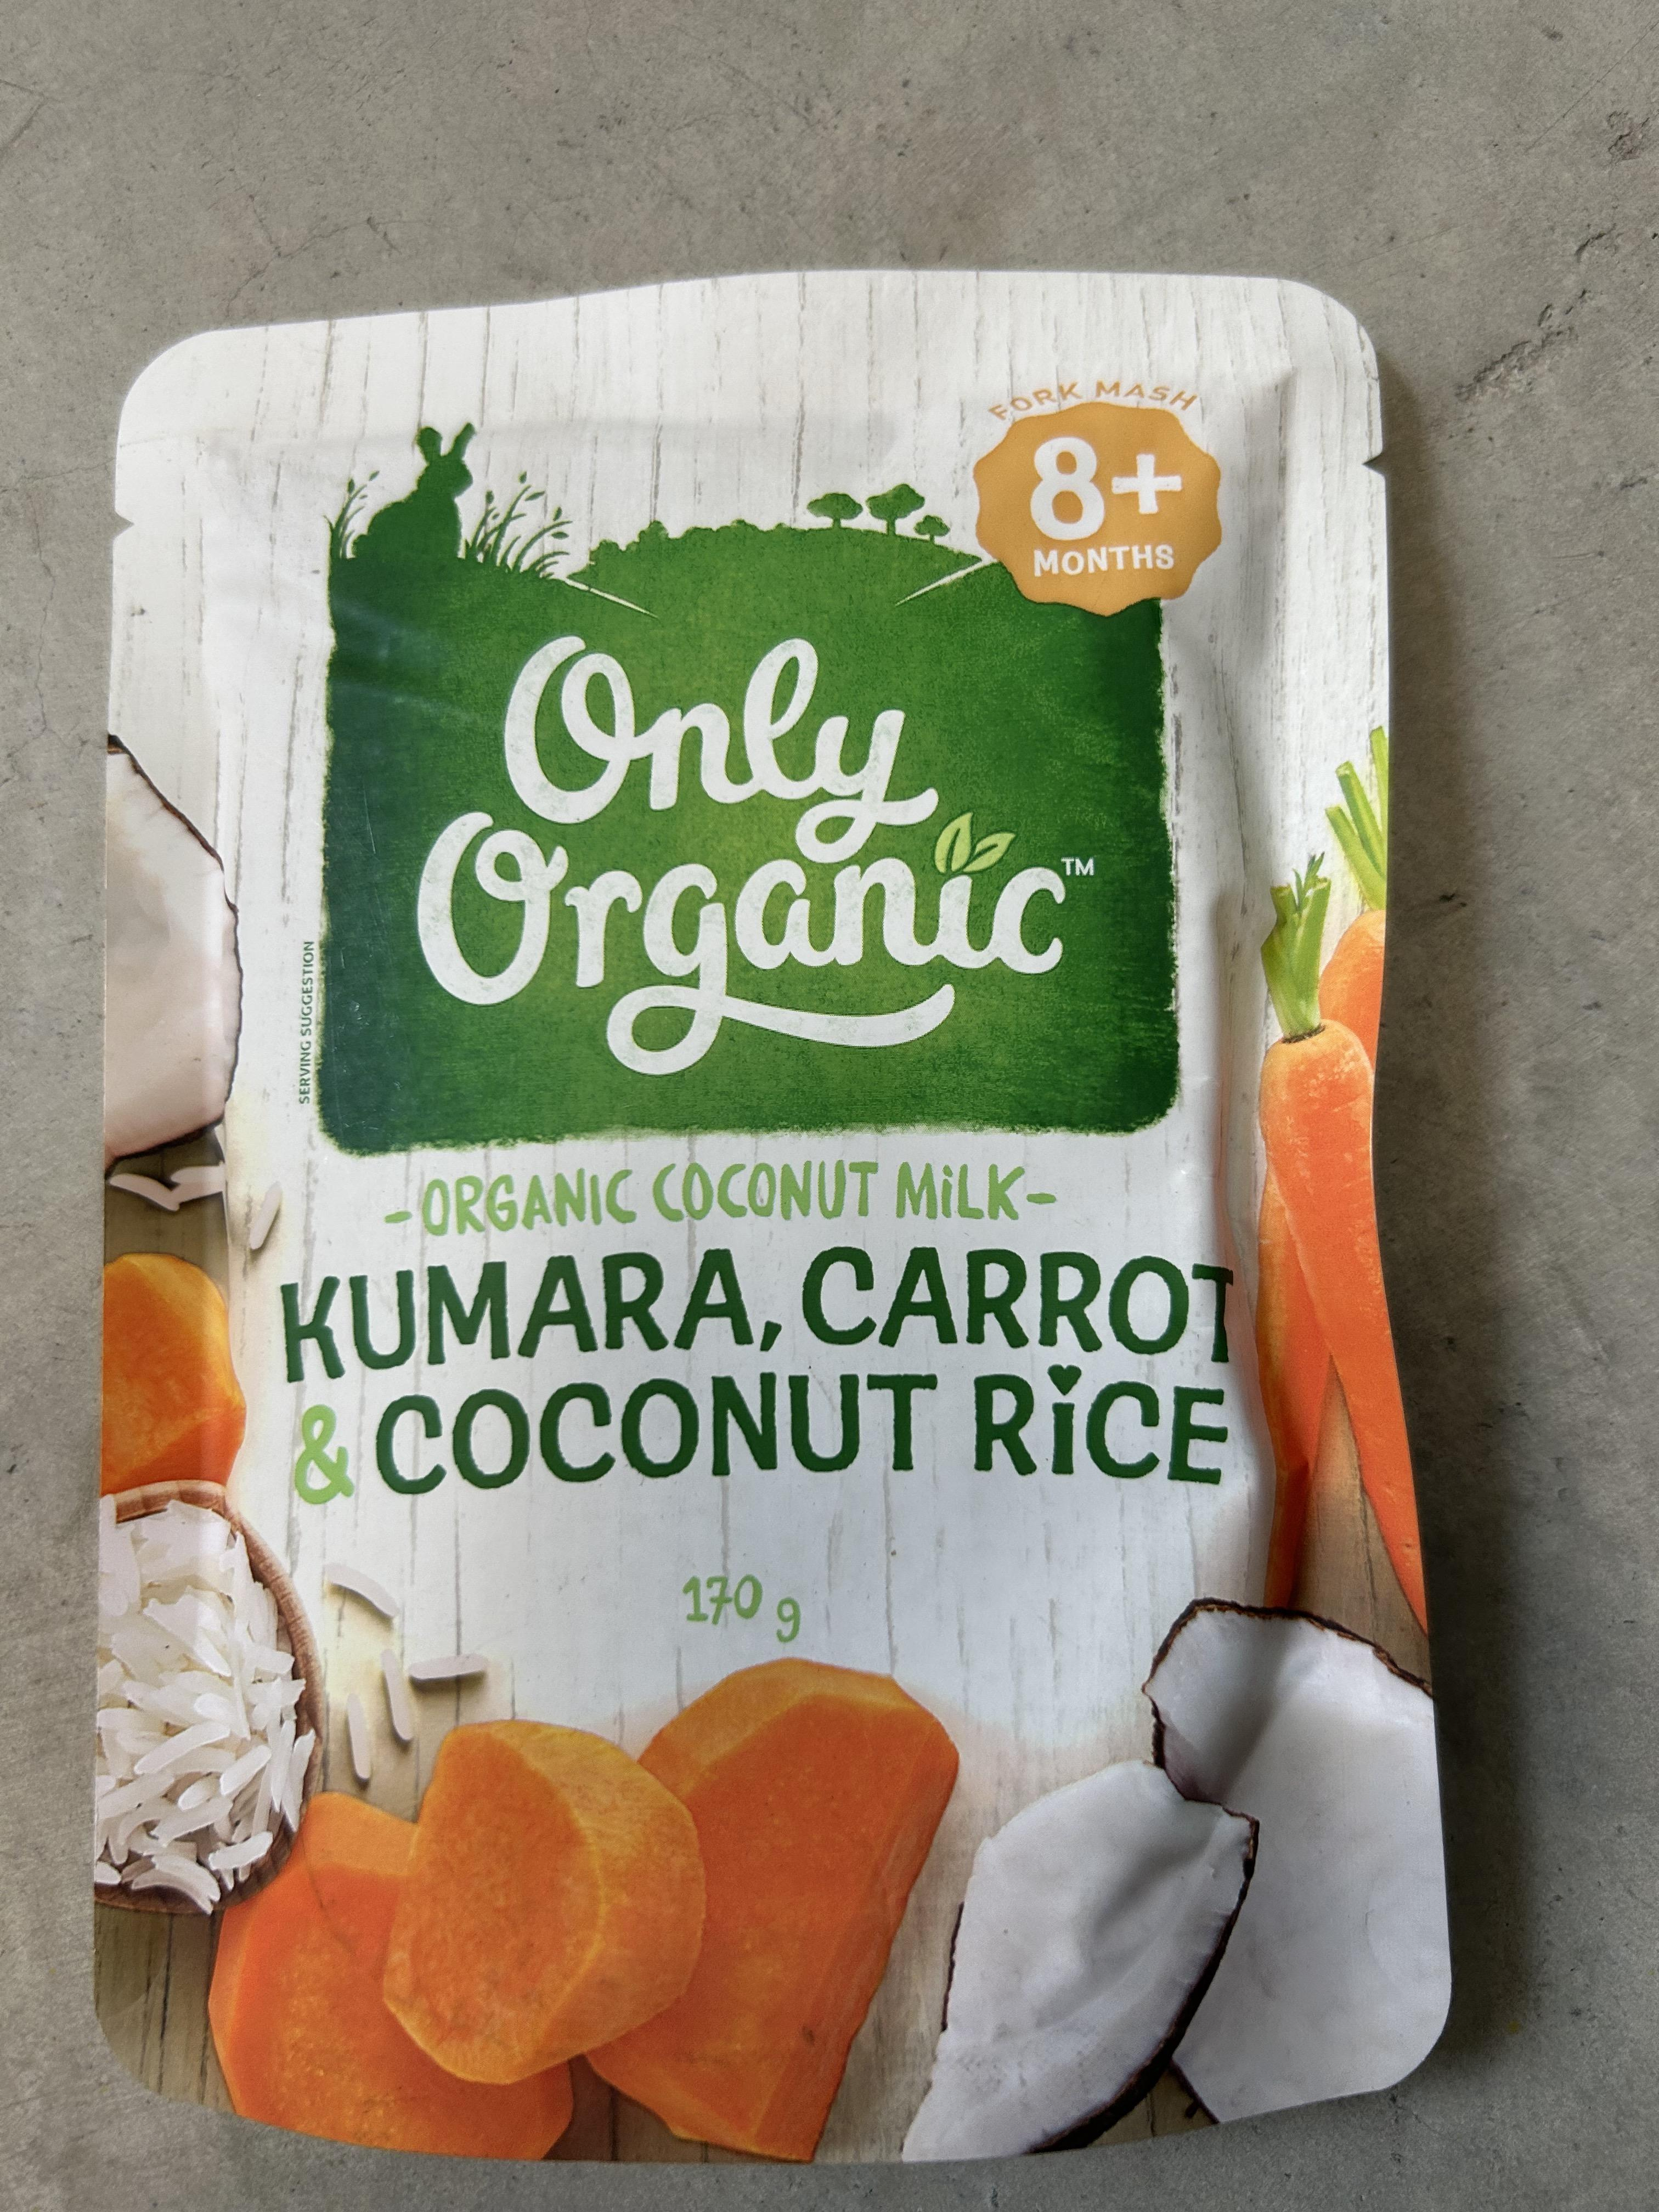object_name: (139, 373, 1401, 2083)
